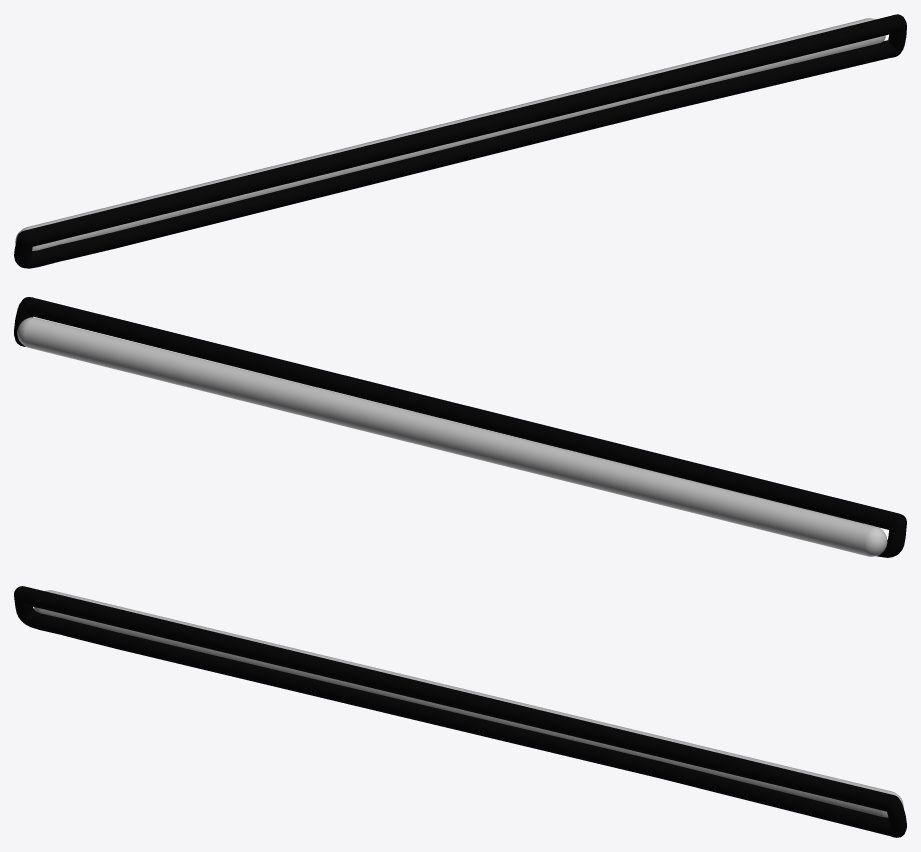
The model's file is healthBar-3D.glb.
3 views of the same model, one above another, from view 1: azimuth 30°, elevation 25°; view 2: azimuth 150°, elevation 25°; view 3: azimuth 330°, elevation 25° (orthographic).
Parts seen in each view (by area): view 1: mesh_id37, mesh_id48; view 2: mesh_id48, mesh_id37; view 3: mesh_id37, mesh_id48.
Boxes of the visible parts, box(x1,y1,x2,y2) form: mesh_id37: box(14, 14, 906, 268); mesh_id48: box(15, 18, 885, 250); mesh_id48: box(17, 317, 887, 556); mesh_id37: box(14, 297, 906, 557); mesh_id37: box(14, 586, 906, 837); mesh_id48: box(33, 590, 903, 817).
Bounding box in the file's own units: 0.5929 × 0.0296 × 0.0269.
Materials: 2 (2 with a texture image).
